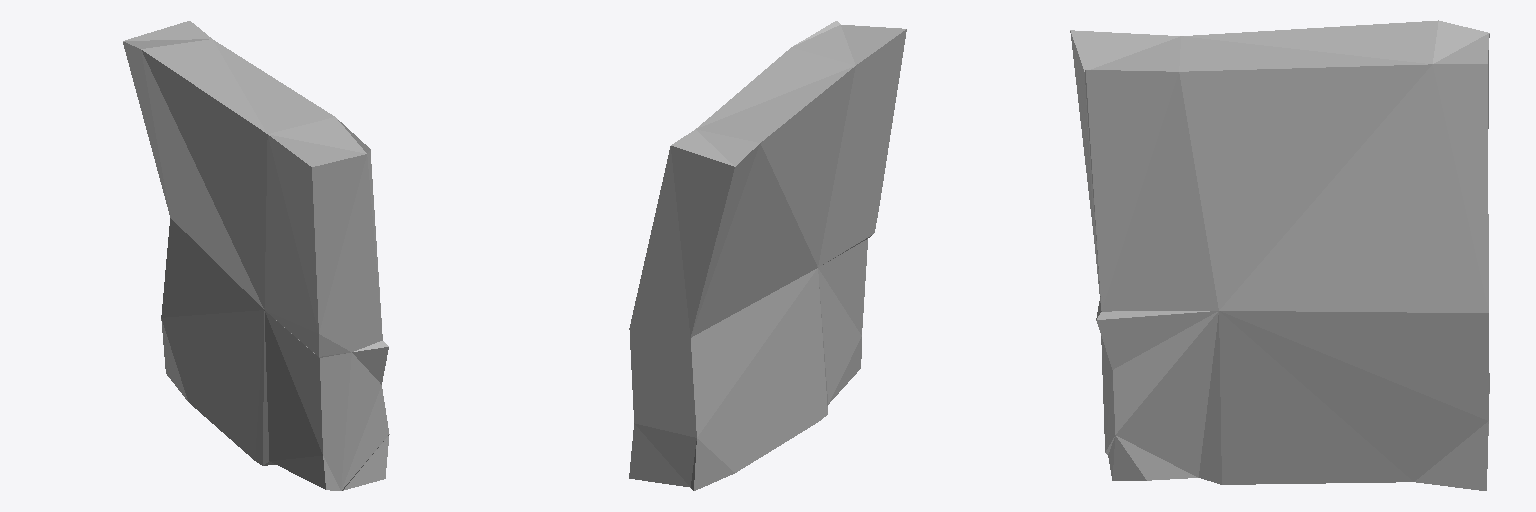
URDF robot description (root):
<?xml version='1.0' encoding='utf-8'?>
<robot name="root">
  <link name="link_001">
    <visual>
      <origin xyz="0 0 0" rpy="0 0 0" />
      <geometry>
        <mesh filename="afbb07e0191d8d2e207736feb336ed586e761b7482d38a2ed6a631f6c67f117e_scale_050.stl" scale="1.0000E+00 1.0000E+00 1.0000E+00" />
      </geometry>
      <material name="">
        <color rgba="7.50E-01 7.50E-01 7.50E-01 1" />
      </material>
    </visual>
    <collision>
      <origin xyz="0 0 0" rpy="0 0 0" />
      <geometry>
        <mesh filename="afbb07e0191d8d2e207736feb336ed586e761b7482d38a2ed6a631f6c67f117e_scale_050.stl" scale="1.0000E+00 1.0000E+00 1.0000E+00" />
      </geometry>
    </collision>
  </link>
</robot>

--- Render facts (derived) ---
The picture shows the robot from 3 angles, left to right: view 1: azimuth 30°, elevation 25°; view 2: azimuth 150°, elevation 25°; view 3: azimuth 270°, elevation 25°; orthographic projection.
Robot: root — 1 links, 0 joints (none); root link link_001; default pose: every joint at zero.
Links seen in each view (by area): view 1: link_001; view 2: link_001; view 3: link_001.
Link boxes in pixels (x1,y1,x2,y2): link_001: (123,21,389,490); link_001: (629,21,906,490); link_001: (1070,20,1489,490).
Bounding box of the posed robot: 0.039 × 0.1089 × 0.1181 m (x, y, z).
Meshes: 1 distinct files referenced, 1 mesh visuals loaded (1 binary STL).
